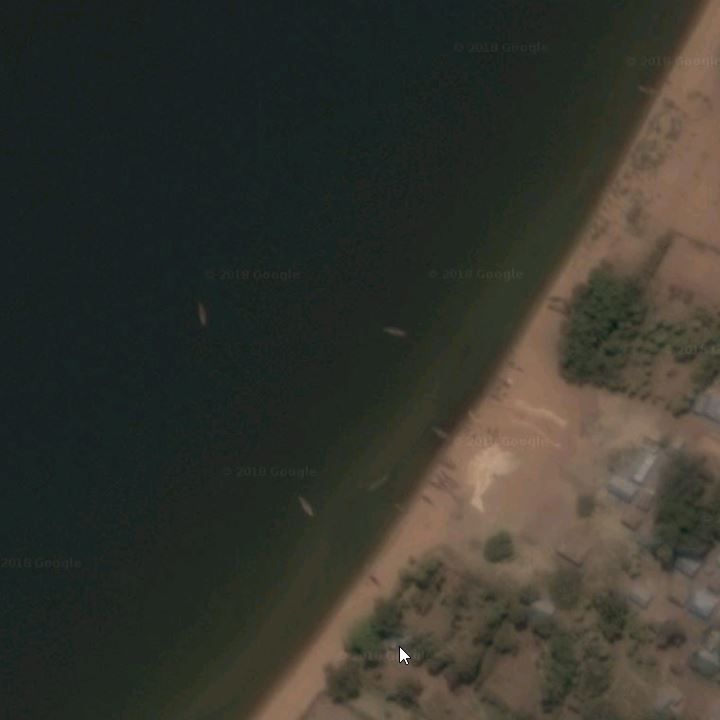boat: (362, 471, 396, 497), (293, 491, 320, 523), (375, 323, 414, 343), (427, 421, 454, 448), (191, 297, 210, 330), (634, 82, 667, 100), (429, 469, 451, 490), (439, 469, 462, 488), (540, 306, 572, 319), (550, 292, 573, 309), (415, 492, 438, 509), (504, 359, 526, 376), (430, 483, 450, 493)
